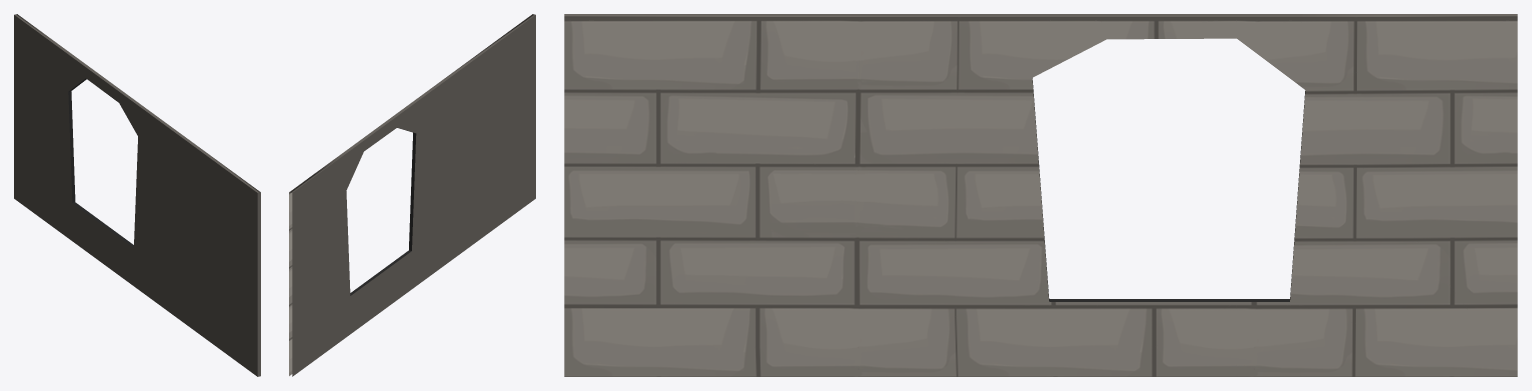
The model's file is wall_window_3LV.fbx.
The picture shows the model from 3 angles, left to right: view 1: azimuth 30°, elevation 25°; view 2: azimuth 150°, elevation 25°; view 3: azimuth 270°, elevation 25°; orthographic projection. The views are drawn at different scales.
Parts seen in each view (by area): view 1: polySurface7; view 2: polySurface7; view 3: polySurface7.
Boxes of the visible parts, box(x1,y1,x2,y2) form: polySurface7: box(14, 14, 260, 376); polySurface7: box(289, 14, 535, 376); polySurface7: box(564, 14, 1517, 376).
Bounding box in the file's own units: 17.7 × 1000 × 2400.
